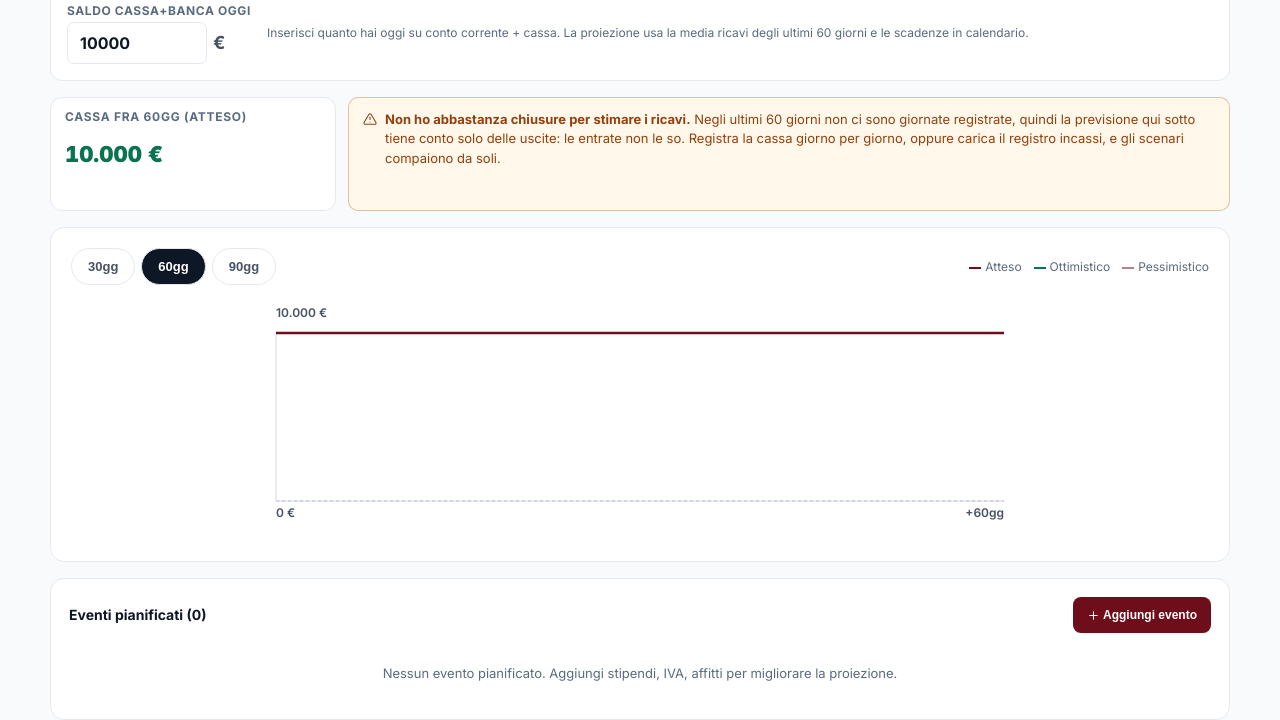
Test: si legge anche senza guardare: etichette e didascalie › i quattro campi del nuovo evento si chiamano per nome
(page scrolled)
Click the button "Aggiungi evento" at (1142, 615), box [1073, 597, 1211, 633]
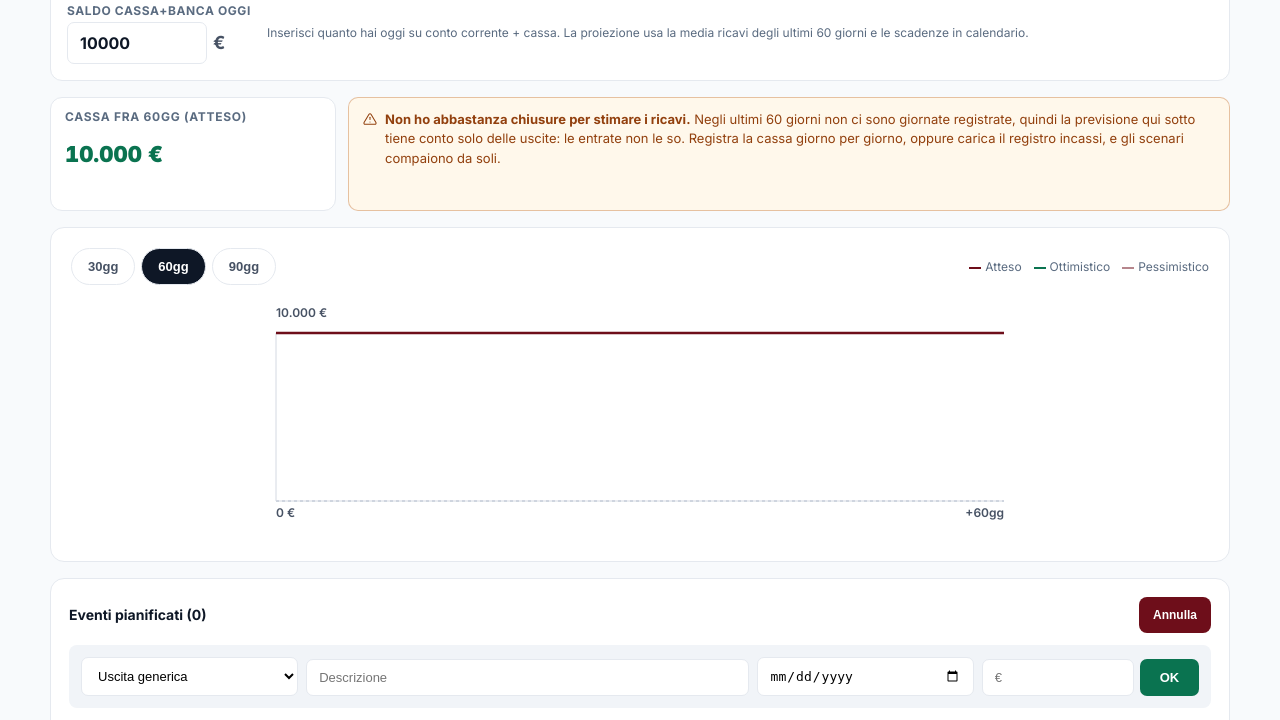
Now the dropdown named "Tipo di evento" is shown, box [81, 657, 298, 696]
Now the field named "Descrizione dell'evento" is shown, box [306, 659, 749, 696]
Now the date field named "Data in cui te lo aspetti" is shown, box [757, 657, 974, 696]
